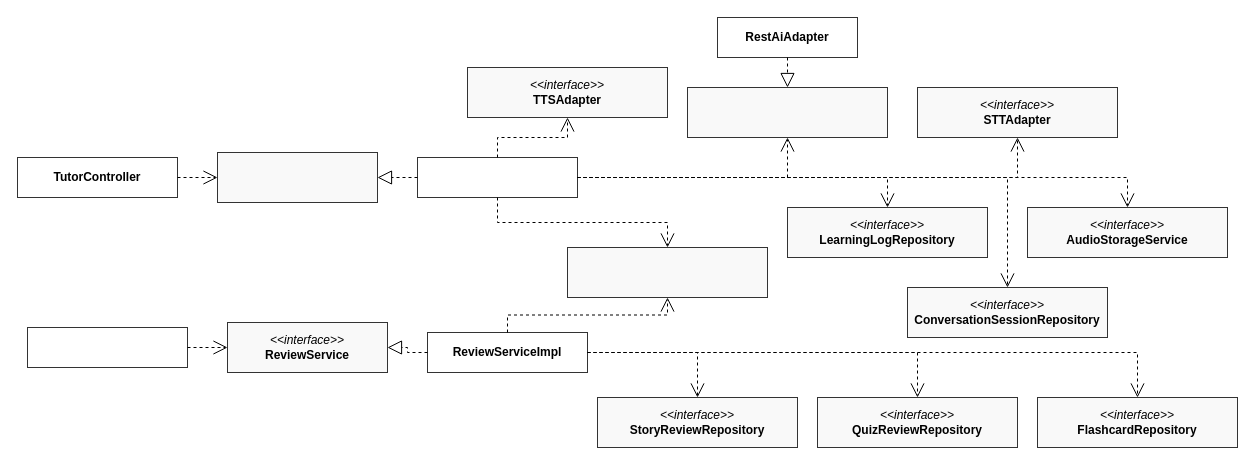
Some shapes in this 1255 by 465 pixel diagram are drawn without their labels. The shapes that lost their labels are listed below. From the top down, each one's centre as x and y in pixels, then its label:
At [787,112]: "<<interface>> AiAdapter".
At [297,177]: "<<interface>> TutorService".
At [497,177]: "TutorServiceImpl".
At [667,272]: "<<interface>> TutorSessionResultRepository".
At [107,347]: "ReviewController".
